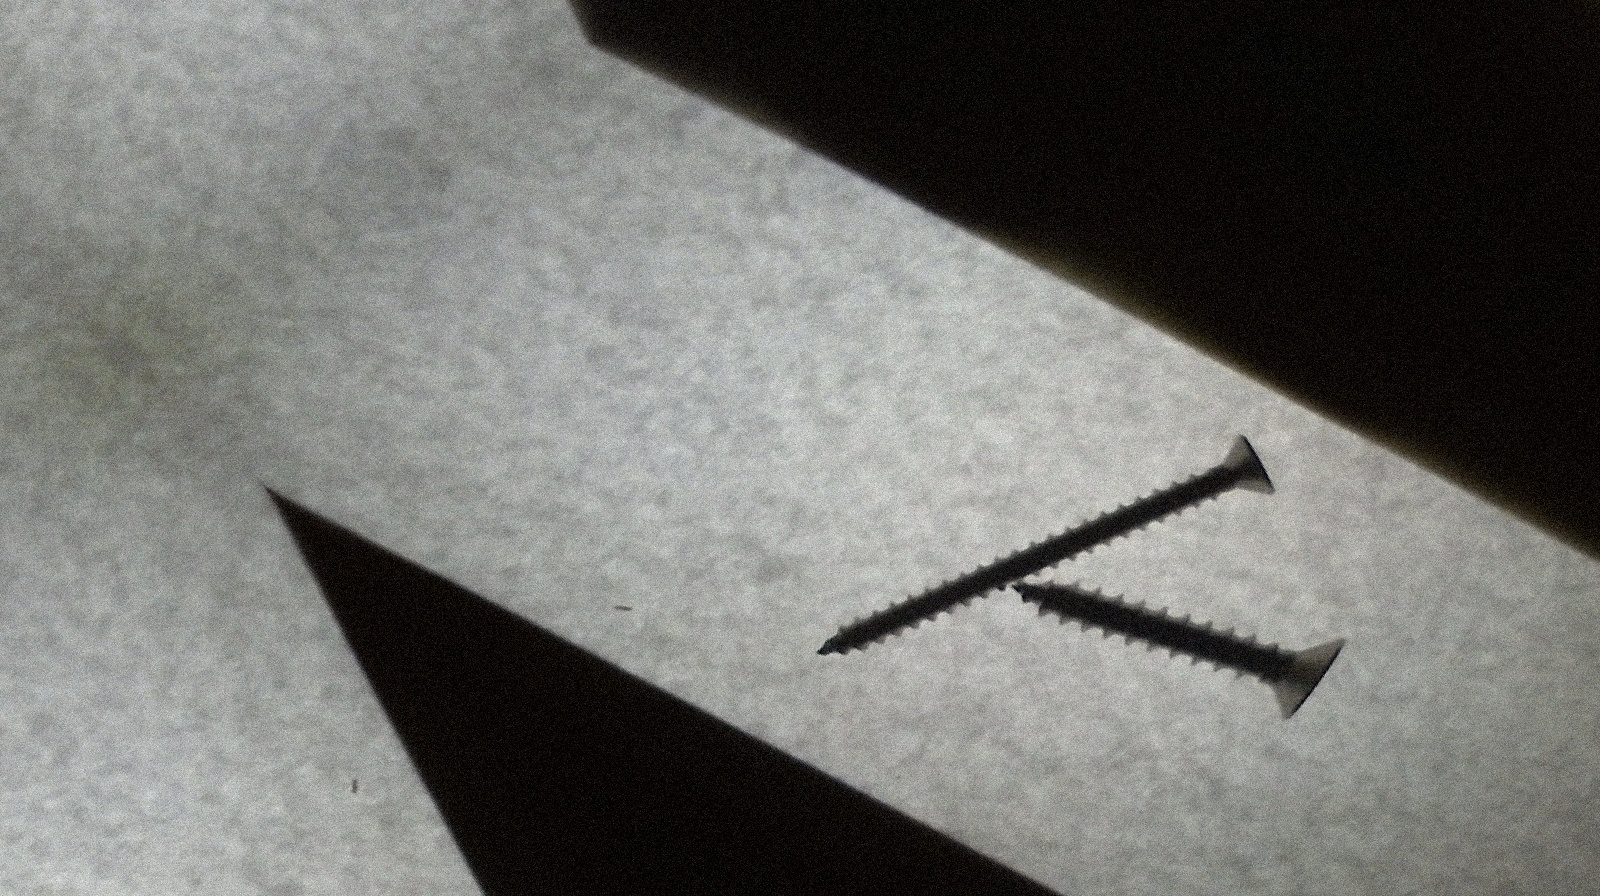S001: (995, 465, 1385, 781)
S002: (811, 381, 1301, 735)
